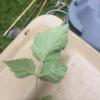Raspberry leaf: (31, 23, 69, 65), (1, 58, 36, 81), (40, 61, 68, 83)
